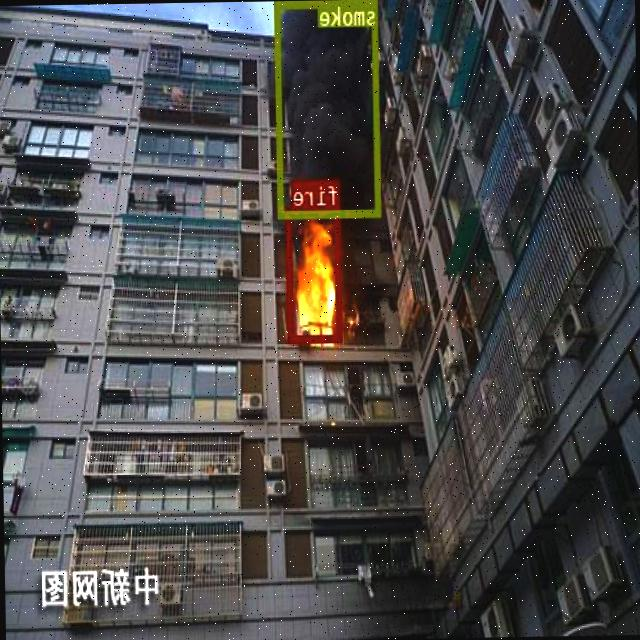fire: (287, 206, 342, 341)
smoke: (275, 0, 382, 216)
